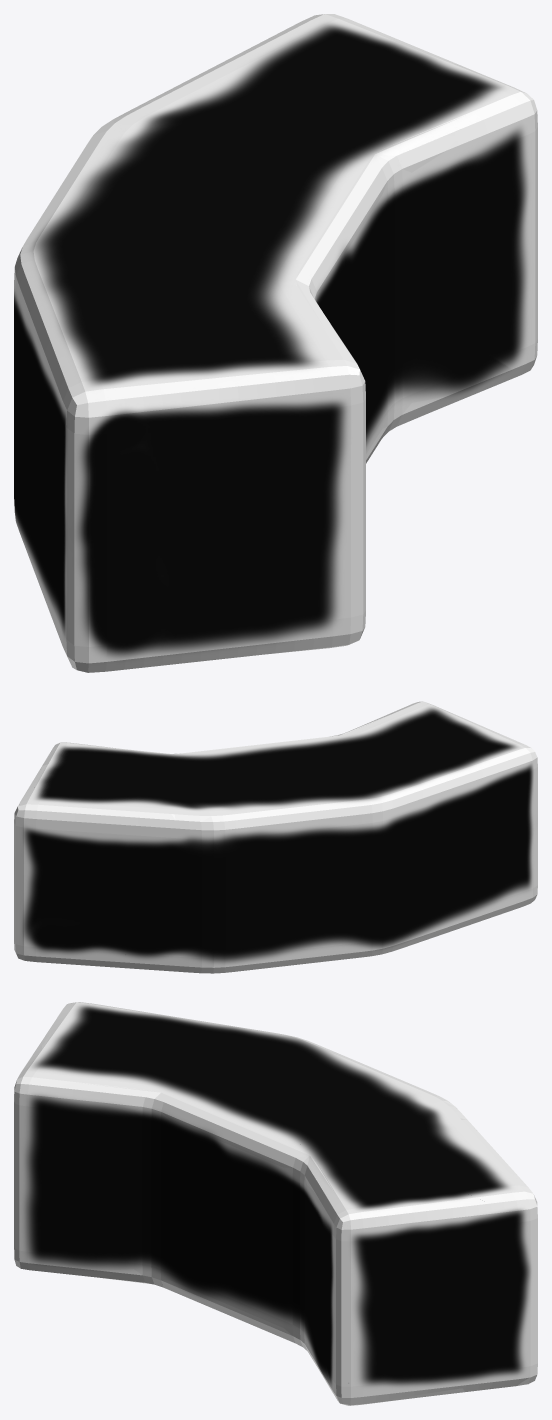
File: curvedbrick.fbx_Scene.fbx
The picture shows the model from 3 angles, top to bottom: view 1: azimuth 30°, elevation 25°; view 2: azimuth 150°, elevation 25°; view 3: azimuth 270°, elevation 25°; orthographic projection. The views are drawn at different scales.
Parts seen in each view (by area): view 1: Cube, Cube_cell.002, Cube_cell.003, Cube_cell.005, Cube_cell.001, Cube.001, Cube_cell.004; view 2: Cube, Cube_cell.003, Cube_cell, Cube_cell.005, Cube_cell.004, Cube_cell.001, Cube.001; view 3: Cube, Cube_cell.002, Cube_cell.005, Cube.001, Cube_cell.003, Cube_cell.001, Cube_cell.
Boxes of the visible parts, x1,y1,x2,y2 form: Cube: [14, 14, 537, 672]; Cube_cell.002: [329, 32, 537, 452]; Cube_cell.003: [25, 256, 365, 671]; Cube_cell.005: [20, 99, 353, 317]; Cube_cell.001: [143, 16, 378, 122]; Cube.001: [102, 39, 504, 646]; Cube_cell.004: [14, 334, 43, 595]; Cube: [14, 701, 537, 972]; Cube_cell.003: [315, 703, 537, 923]; Cube_cell: [14, 844, 266, 973]; Cube_cell.005: [157, 739, 382, 950]; Cube_cell.004: [298, 812, 473, 964]; Cube_cell.001: [14, 769, 285, 964]; Cube.001: [33, 712, 487, 821]; Cube: [14, 1002, 537, 1404]; Cube_cell.002: [173, 1140, 507, 1405]; Cube_cell.005: [182, 1037, 466, 1154]; Cube.001: [42, 1029, 529, 1404]; Cube_cell.003: [14, 1002, 229, 1276]; Cube_cell.001: [364, 1119, 537, 1248]; Cube_cell: [490, 1240, 537, 1389].
Bounding box in the file's own units: 294 × 120 × 294.
